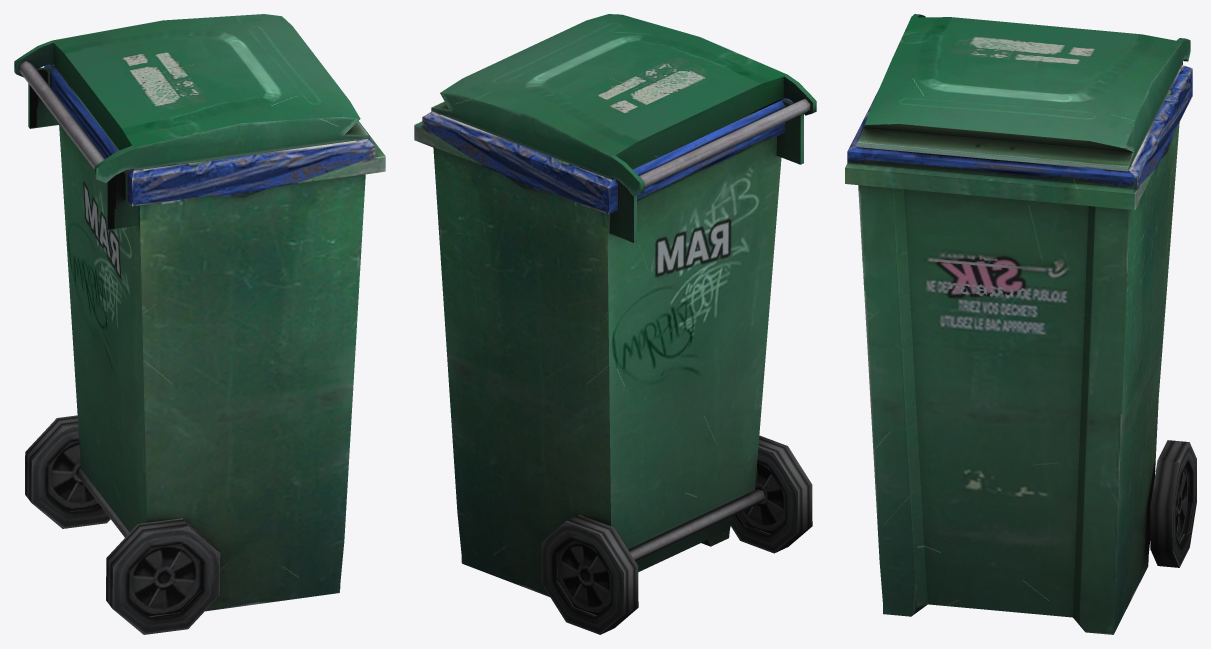
The model's file is poubelle_2.glb.
The picture shows the model from 3 angles, left to right: view 1: azimuth 30°, elevation 25°; view 2: azimuth 150°, elevation 25°; view 3: azimuth 270°, elevation 25°; orthographic projection. The views are drawn at different scales.
Parts seen in each view (by area): view 1: SM_TrashBin_Material #2_0; view 2: SM_TrashBin_Material #2_0; view 3: SM_TrashBin_Material #2_0.
Boxes of the visible parts, x1=… form: SM_TrashBin_Material #2_0: x1=14, y1=14, x2=385, y2=634; SM_TrashBin_Material #2_0: x1=414, y1=14, x2=816, y2=634; SM_TrashBin_Material #2_0: x1=845, y1=14, x2=1196, y2=634.
Bounding box in the file's own units: 0.7162 × 1.11 × 0.6904.
Materials: 1 (1 with a texture image).
